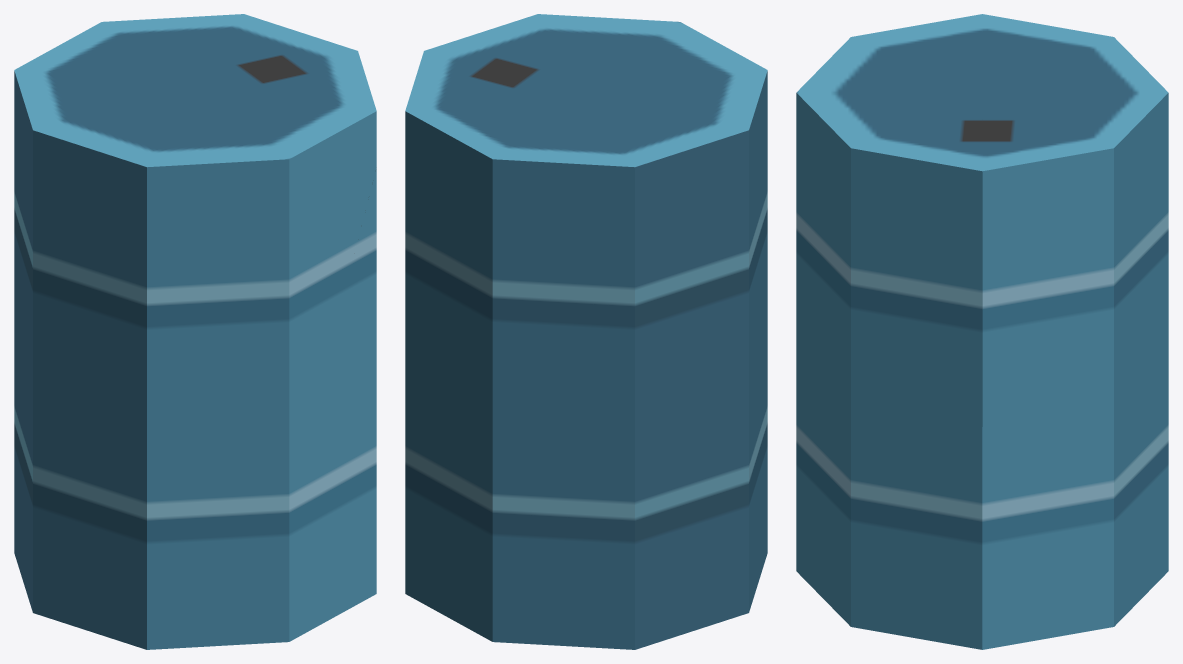
The model's file is MetalBarrel_root.fbx.
The picture shows the model from 3 angles, left to right: view 1: azimuth 30°, elevation 25°; view 2: azimuth 150°, elevation 25°; view 3: azimuth 270°, elevation 25°; orthographic projection.
Visible parts, largest first — view 1: MetalBarrel_sh_1, MetalBarrel_sh_5, MetalBarrel_sh_2, MetalBarrel_sh_4; view 2: MetalBarrel_sh_1, MetalBarrel_sh_3, MetalBarrel_sh_2, MetalBarrel_sh_5; view 3: MetalBarrel_sh_3, MetalBarrel_sh_4, MetalBarrel_sh_1, MetalBarrel_sh_2, MetalBarrel_sh_5.
Part boxes in pixels (left/top/right/bottom): MetalBarrel_sh_1: left=14, top=14, right=376, bottom=439; MetalBarrel_sh_5: left=22, top=378, right=315, bottom=649; MetalBarrel_sh_2: left=14, top=148, right=376, bottom=578; MetalBarrel_sh_4: left=305, top=168, right=376, bottom=632; MetalBarrel_sh_1: left=405, top=14, right=767, bottom=554; MetalBarrel_sh_3: left=405, top=34, right=559, bottom=645; MetalBarrel_sh_2: left=556, top=21, right=767, bottom=649; MetalBarrel_sh_5: left=686, top=303, right=767, bottom=633; MetalBarrel_sh_3: left=850, top=160, right=1168, bottom=633; MetalBarrel_sh_4: left=806, top=204, right=1074, bottom=649; MetalBarrel_sh_1: left=797, top=14, right=1168, bottom=385; MetalBarrel_sh_2: left=796, top=92, right=850, bottom=365; MetalBarrel_sh_5: left=796, top=310, right=812, bottom=581.
Size of the model in its own units: 142 by 202 by 142.
